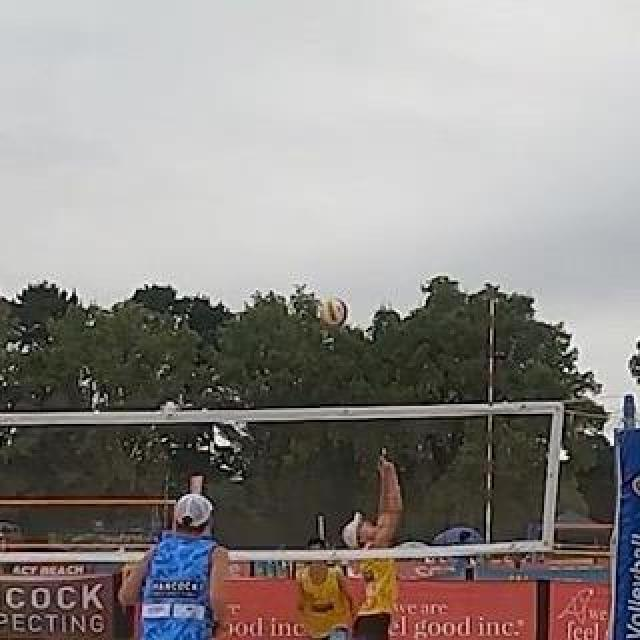volleyball: (320, 299, 348, 325)
